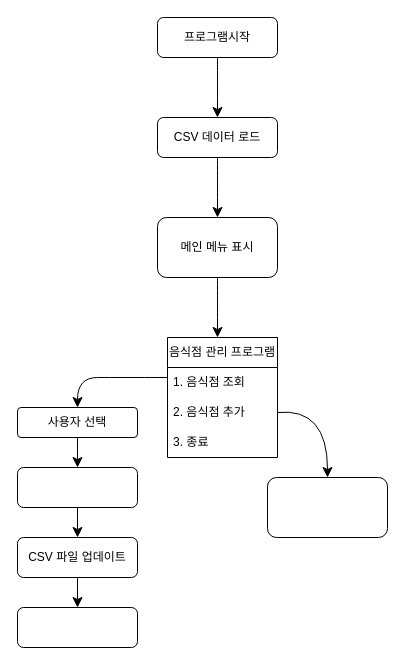
This 405x665 diagram has some shape labels left out. The centre of each missing label's shape, as x and y in pixels:
"음식점 조회 결과 표시" belongs at (x=77, y=487).
"입력 데이터 처리" belongs at (x=327, y=507).
"프로그램 종료" belongs at (x=77, y=627).
